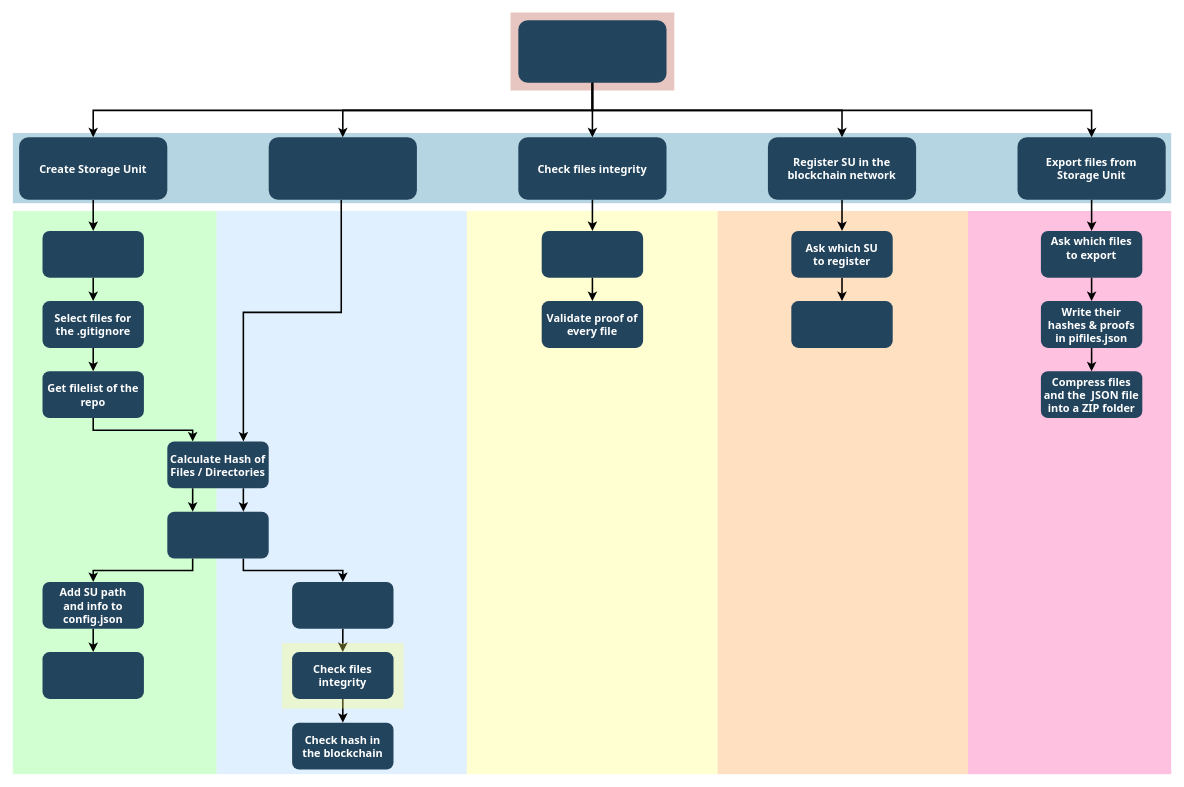
The diagram is 1184 pixels wide and 787 high, and some of its shapes have lost their labels. Here are the shapes that lost their labels. From the top down, the centre of each, then its label:
[592,51]: Start PineSU Client & PineSU Web Server
[342,168]: Check Storage Unit Integrity
[93,253]: Create Git Repo
[592,253]: Look for any .pifiles.json in SU
[841,324]: Pay for the hash registration
[217,534]: Create file .pinesu.json
[342,604]: Compare the old hash with the new one
[93,675]: Commit repo with the new files
